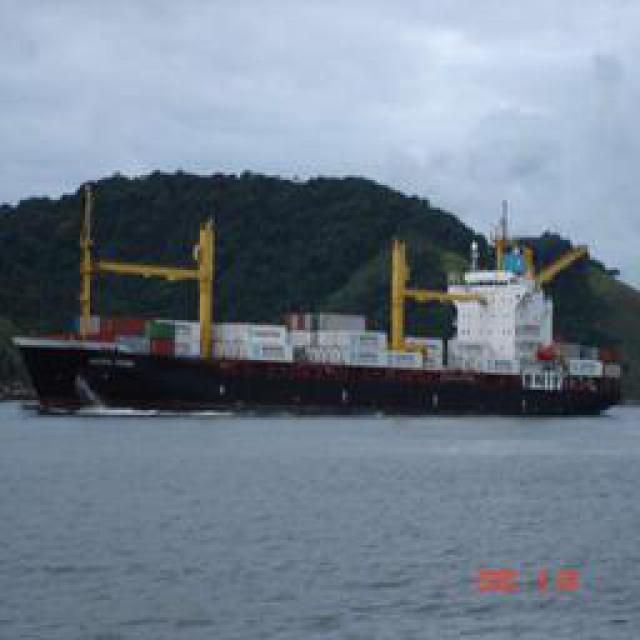Ship: (14, 255, 634, 418)
